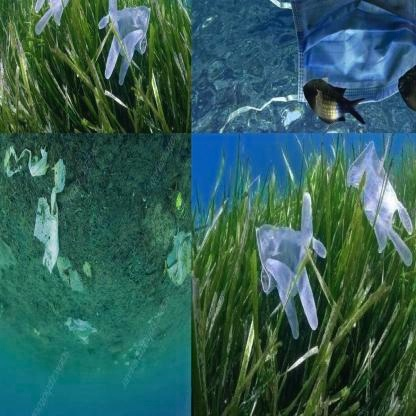Mask: (198, 0, 415, 132), (26, 184, 66, 290), (153, 220, 191, 290), (61, 298, 101, 356)
glove: (254, 185, 328, 340), (344, 134, 416, 273), (98, 0, 154, 88), (32, 0, 85, 37)
